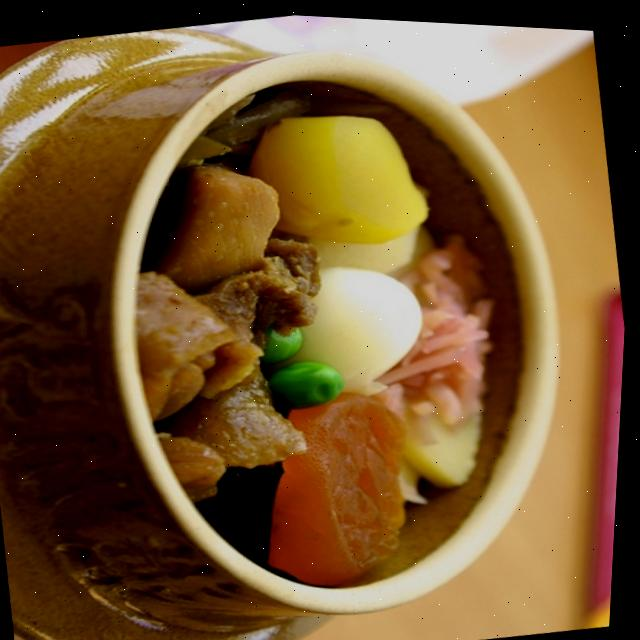猪肉菜式: (1, 63, 637, 638)
